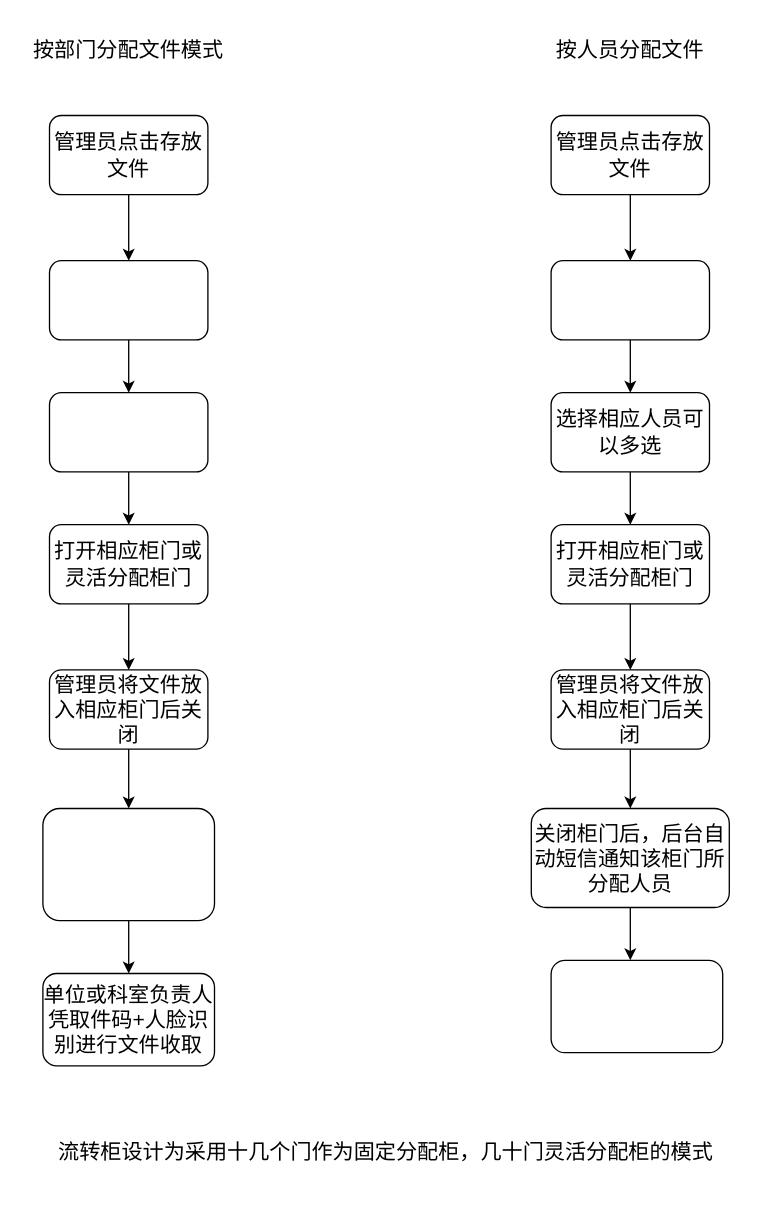
The diagram is 771 pixels wide and 1220 high, and some of its shapes have lost their labels. Here are the shapes that lost their labels. From the top down, the centre of each, then its label:
At (128,299): "管理员选择分配模式为按部门分配".
At (630,299): "管理员选择分配模式为按人员分配".
At (128,431): "选择相应部门可以多选".
At (128,864): "关闭柜门后，后台短信通知该柜门所属单位/科室负责人".
At (636,1006): "所分配人员凭取件码+人脸识别进行文件收取".
